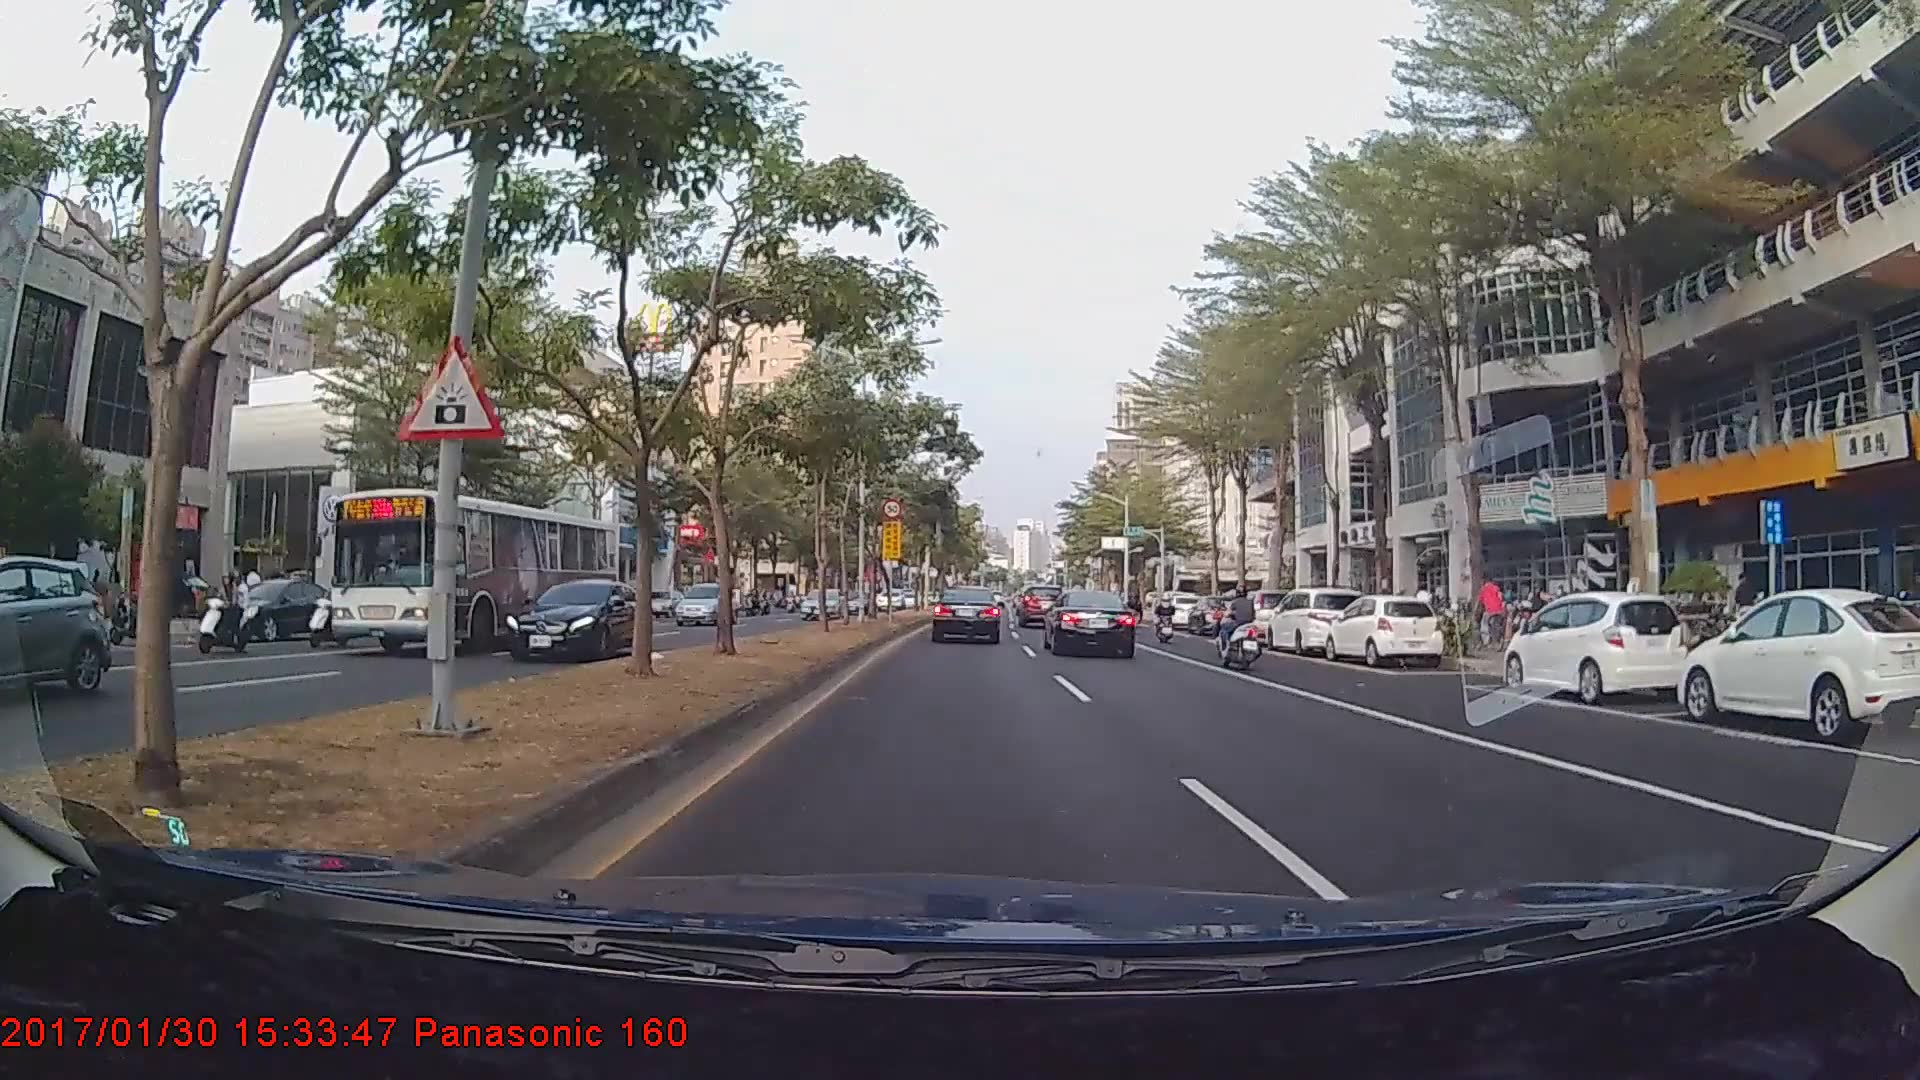rider: (1213, 582, 1268, 677), (1213, 587, 1263, 658), (1153, 586, 1182, 643)
vehicle: (321, 483, 618, 655), (1674, 586, 1920, 738), (1501, 588, 1689, 706), (0, 556, 108, 700), (502, 573, 653, 661), (1322, 593, 1443, 667), (206, 576, 342, 640), (1264, 585, 1367, 653), (1046, 587, 1138, 658), (930, 584, 1004, 644), (672, 580, 736, 625), (1016, 580, 1067, 625), (796, 584, 846, 619)
